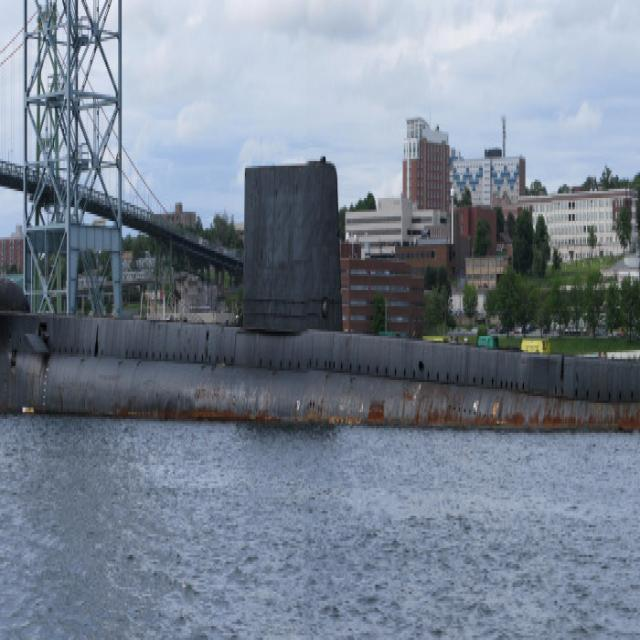submarine: (1, 162, 640, 427)
